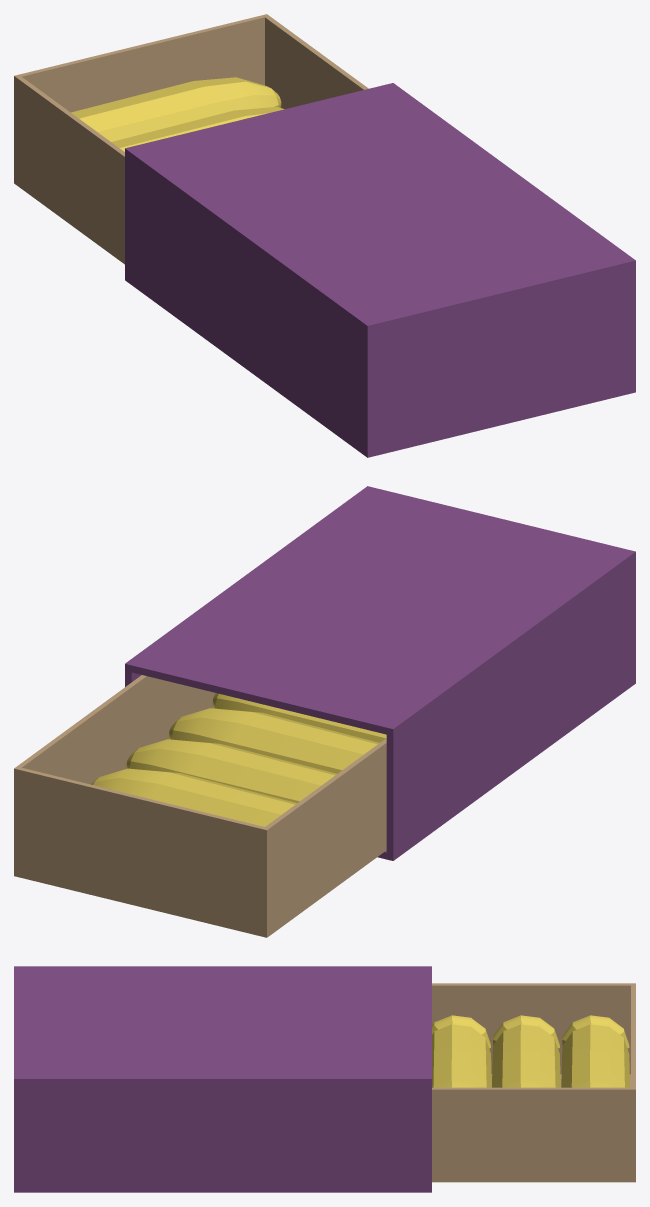
Rendered from SmallAmmoBox.fbx.
3 renders of one model, top to bottom at view 1: azimuth 30°, elevation 25°; view 2: azimuth 150°, elevation 25°; view 3: azimuth 270°, elevation 25°, orthographic. The views are drawn at different scales.
Parts seen in each view (by area): view 1: small_ammo_box3; view 2: small_ammo_box3; view 3: small_ammo_box3.
Boxes of the visible parts, bbox=[...] form: small_ammo_box3: bbox=[14, 14, 635, 457]; small_ammo_box3: bbox=[14, 486, 635, 937]; small_ammo_box3: bbox=[14, 966, 635, 1192].
Bounding box in the file's own units: 2.78 × 1.3 × 6.48.
1 material, 1 textured.
